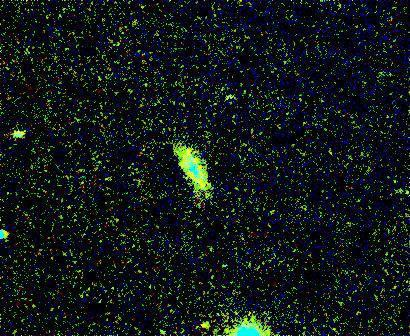star: (189, 309, 219, 336)
